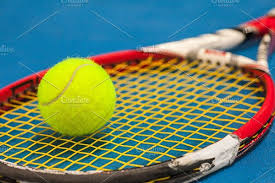tennis_ball: (38, 58, 115, 137)
